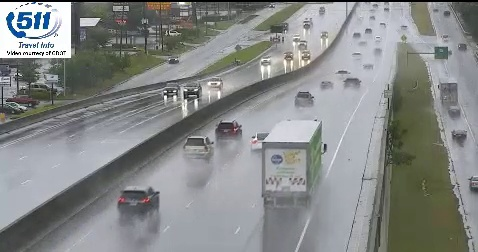car: (118, 186, 161, 215), (182, 136, 214, 159), (215, 121, 242, 139), (251, 132, 273, 151), (294, 91, 313, 107), (344, 78, 361, 89)
small-truck: (262, 118, 323, 207)
